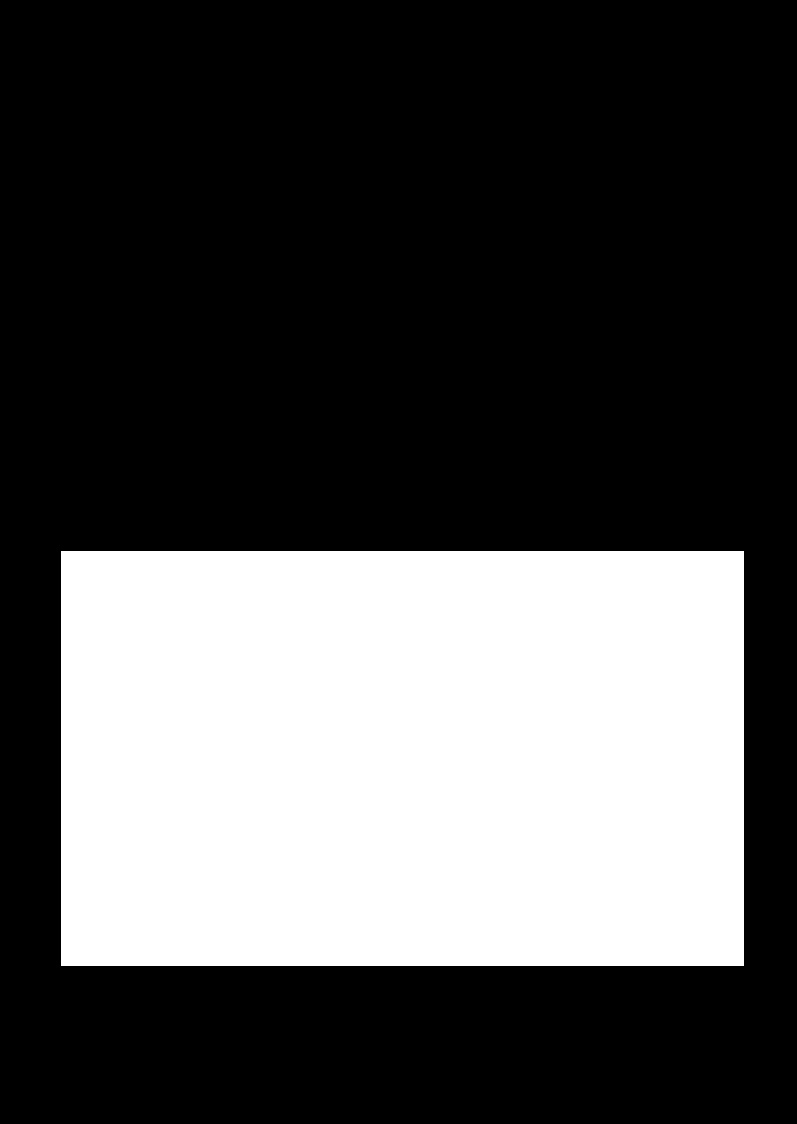table: (61, 551, 743, 965)
